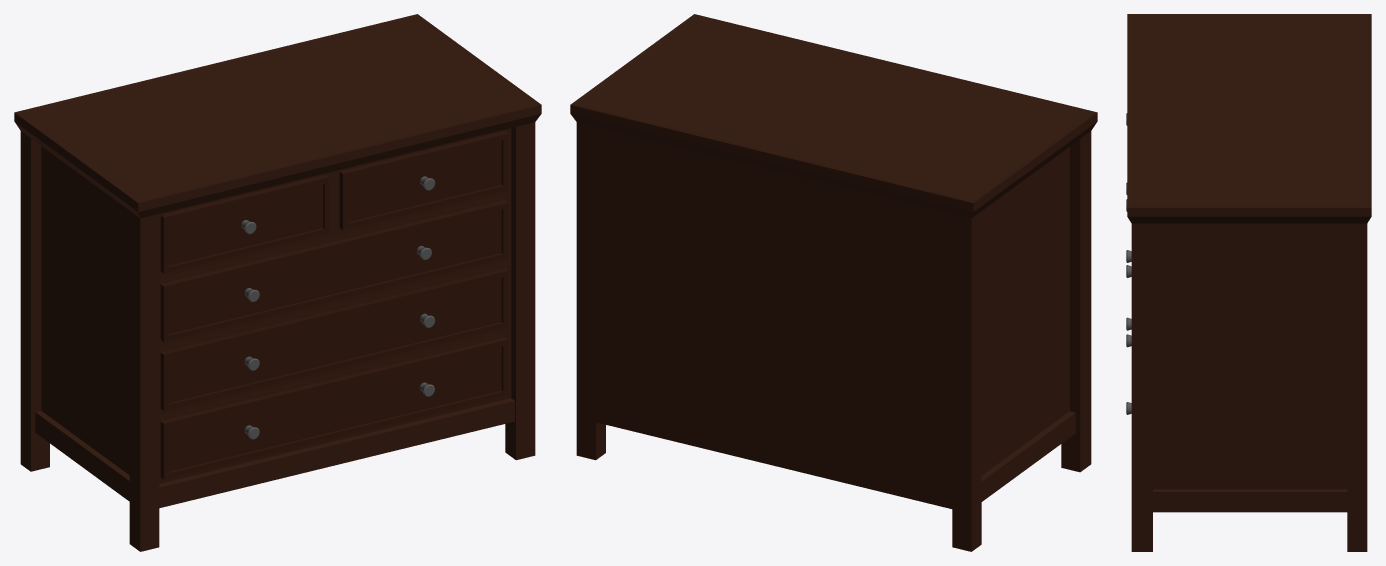
Rendered from Commode_01.fbx.
The picture shows the model from 3 angles, left to right: view 1: azimuth 30°, elevation 25°; view 2: azimuth 150°, elevation 25°; view 3: azimuth 270°, elevation 25°; orthographic projection.
Visible parts, largest first — view 1: Commode_01; view 2: Commode_01; view 3: Commode_01.
Part boxes in pixels (x1,y1,x2,y2): Commode_01: [14, 14, 541, 551]; Commode_01: [570, 14, 1097, 551]; Commode_01: [1126, 14, 1371, 551].
Size of the model in its own units: 145 by 121 by 77.74.
